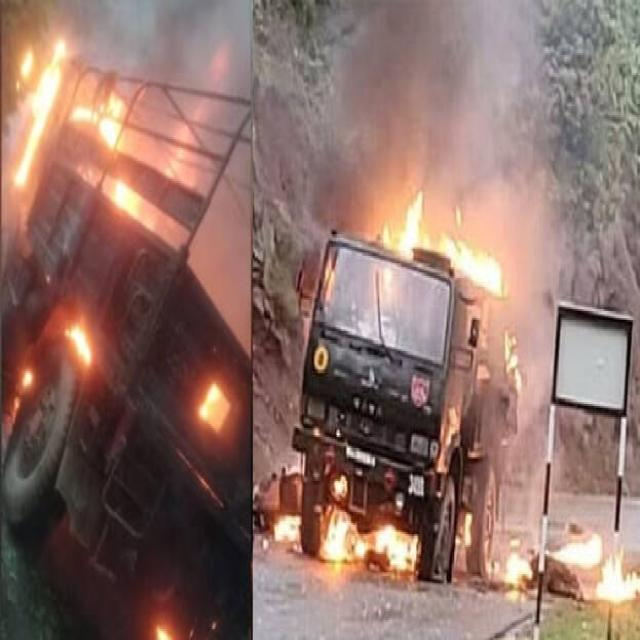accident: (292, 234, 520, 581)
